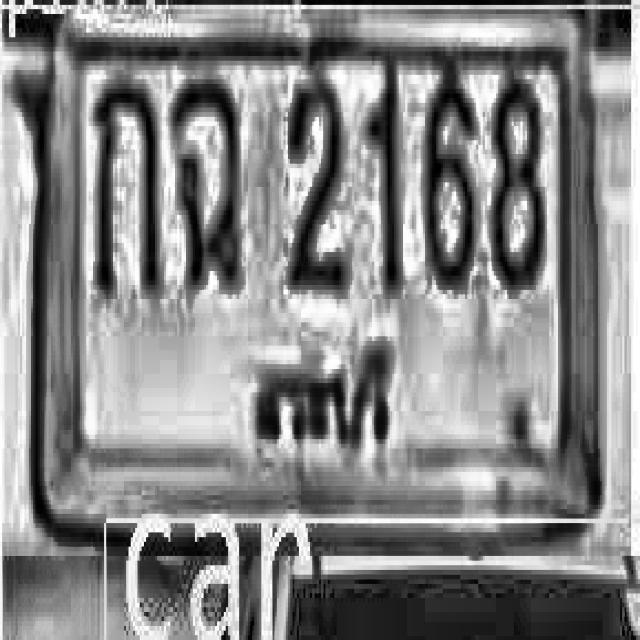license-plate: (42, 0, 603, 526)
